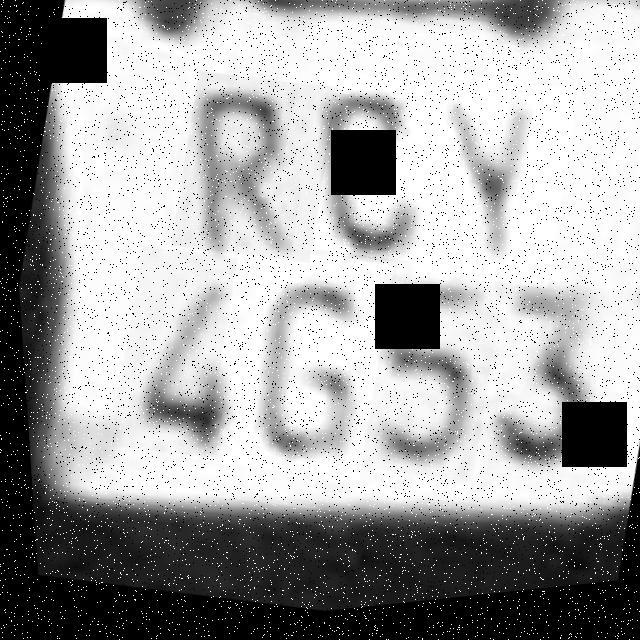3: (418, 268, 629, 526)
4: (94, 239, 267, 474)
5: (316, 266, 508, 502)
C: (278, 62, 478, 288)
G: (187, 238, 400, 499)
R: (158, 64, 344, 280)
Y: (401, 71, 587, 310)
